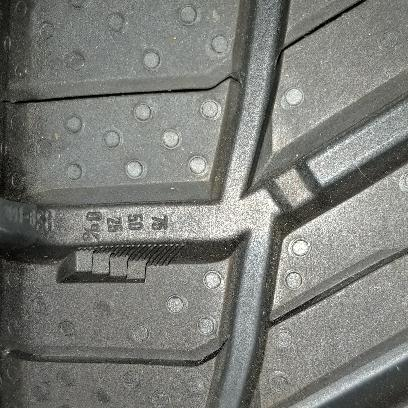temoin:100: (52, 241, 188, 286)
